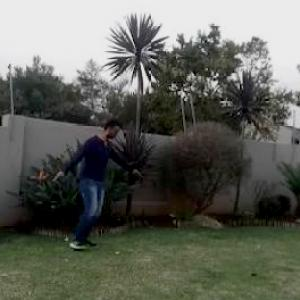land: (28, 104, 164, 270)
